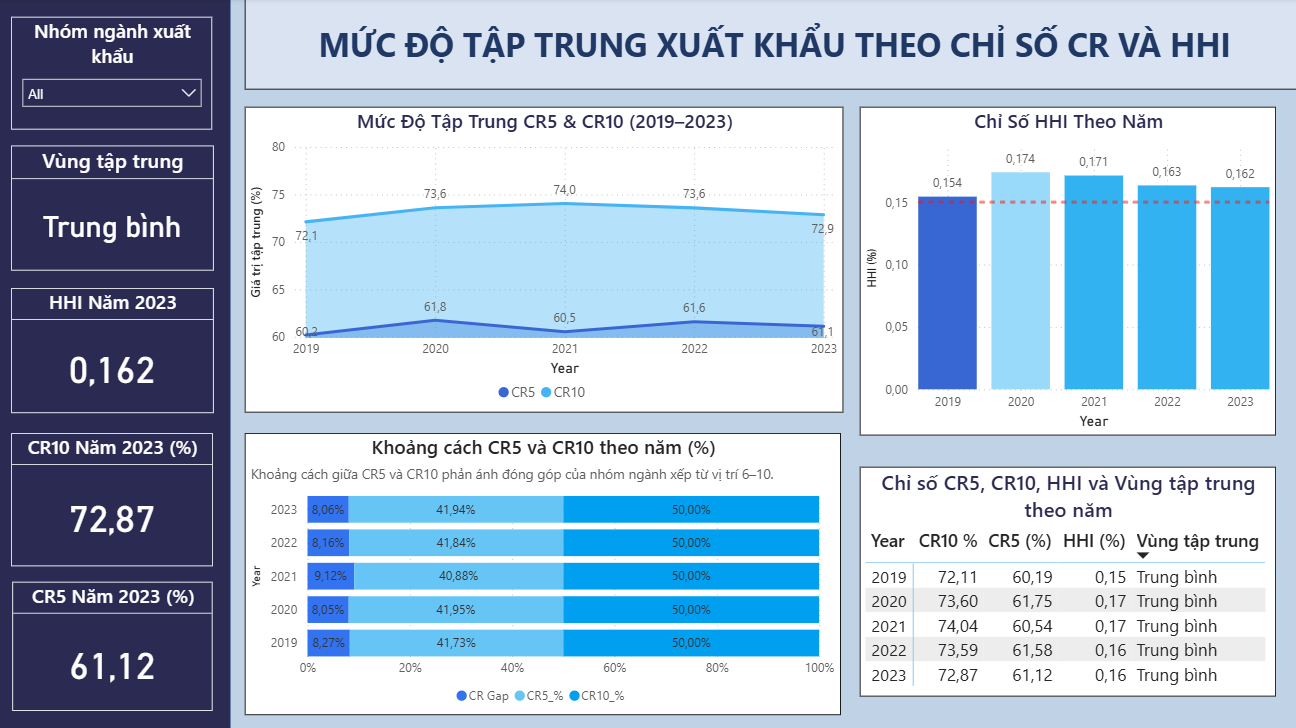

The dashboard page shown, as its layout file describes it:
{"tool":"powerbi","page":{"name":"Mức độ Tập trung Xuất khẩu","canvas":[1280,720],"ordinal":2},"visuals":[{"type":"shape","box":[0,0,229.9,720.2],"z":0},{"type":"card","title":"HHI Năm 2023","fields":{"Values":["kpi_concentration.HHI 2023"]},"box":[14.7,283.7,198.1,122.3],"z":1000},{"type":"card","title":"CR10 Năm 2023 (%)","fields":{"Values":["kpi_concentration.CR10 2023"]},"box":[15.1,425.4,197.6,130.4],"z":2000},{"type":"card","title":"CR5 Năm 2023 (%)","fields":{"Values":["kpi_concentration.CR5 2023"]},"box":[16.5,570.8,196.2,126.2],"z":3000},{"type":"lineChart","title":"Mức Độ Tập Trung CR5 & CR10 (2019–2023)","fields":{"Category":["kpi_concentration.Year"],"Y":["Sum(kpi_concentration.CR5_%)","Sum(kpi_concentration.CR10_%)"]},"box":[243.3,106.4,585.7,299.6],"z":4000},{"type":"clusteredColumnChart","title":"Chỉ Số HHI Theo Năm","fields":{"Y":["Sum(kpi_concentration.HHI)"],"Category":["kpi_concentration.Year"]},"box":[845,106.4,407.2,321.6],"z":5000},{"type":"slicer","title":"Nhóm ngành xuất khẩu","fields":{"Values":["f2_group_by_year.Industry_Group"]},"box":[14.7,18.3,196.9,110.1],"z":6000},{"type":"textbox","box":[243.3,0,1037,89.3],"z":7000},{"type":"card","title":"Vùng tập trung","fields":{"Values":["kpi_concentration.Vung Tap Trung"]},"box":[14.7,144.3,198.1,122.3],"z":8000},{"type":"pivotTable","title":" Chỉ số CR5, CR10, HHI và Vùng tập trung theo năm","fields":{"Values":["Sum(kpi_concentration.CR10_%)","Sum(kpi_concentration.CR5_%)","Sum(kpi_concentration.HHI)","kpi_concentration.cot Vung Tap Trung"],"Rows":["kpi_concentration.Year"]},"box":[845,458.6,407.2,225],"z":9000},{"type":"hundredPercentStackedBarChart","title":"Khoảng cách CR5 và CR10 theo năm (%)","fields":{"Y":["kpi_concentration.CR Gap By Year","Sum(kpi_concentration.CR5_%)","Sum(kpi_concentration.CR10_%)"],"Category":["kpi_concentration.Year"]},"box":[243.3,425.5,583.3,276.4],"z":10000}]}

Visuals, with their boxes in screenshot pixels (x1, y1, x2, y2), scaled from the page's 1280x720 canvas onto the 1296x728 screenshot:
shape: (0, 0, 233, 727)
"HHI Năm 2023" card: (15, 287, 215, 411)
"CR10 Năm 2023 (%)" card: (15, 430, 215, 562)
"CR5 Năm 2023 (%)" card: (17, 577, 215, 705)
"Mức Độ Tập Trung CR5 & CR10 (2019–2023)" lineChart: (246, 108, 839, 411)
"Chỉ Số HHI Theo Năm" clusteredColumnChart: (856, 108, 1268, 433)
"Nhóm ngành xuất khẩu" slicer: (15, 19, 214, 130)
textbox: (246, 0, 1295, 90)
"Vùng tập trung" card: (15, 146, 215, 270)
" Chỉ số CR5, CR10, HHI và Vùng tập trung theo năm" pivotTable: (856, 464, 1268, 691)
"Khoảng cách CR5 và CR10 theo năm (%)" hundredPercentStackedBarChart: (246, 430, 837, 710)
